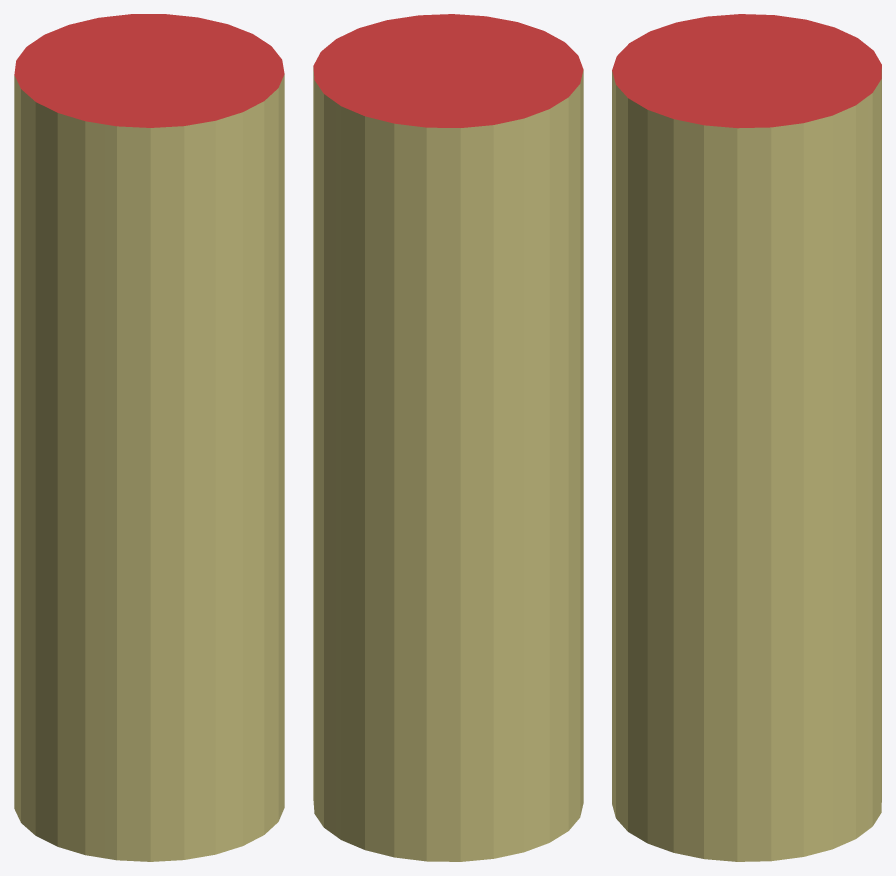
3 renders of one model, left to right at view 1: azimuth 30°, elevation 25°; view 2: azimuth 150°, elevation 25°; view 3: azimuth 270°, elevation 25°, orthographic.
Bounding box in the file's own units: 4.67 × 4.67 × 14.
